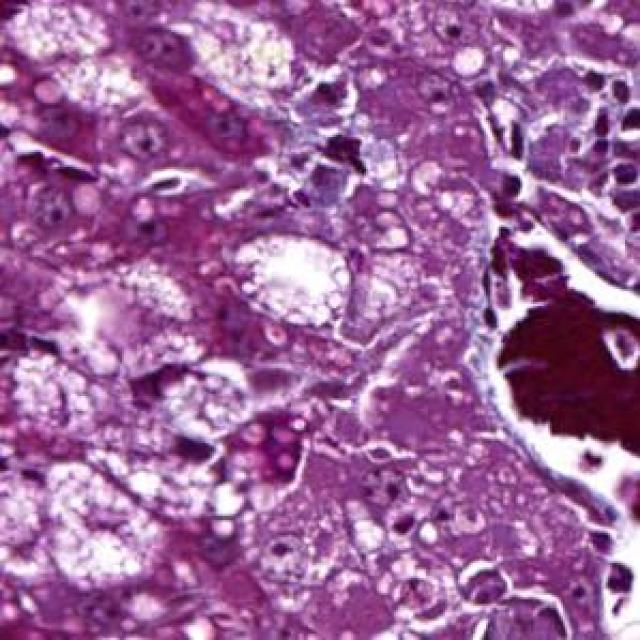ballooning: (43, 456, 171, 593), (171, 6, 304, 120), (231, 229, 362, 340)
